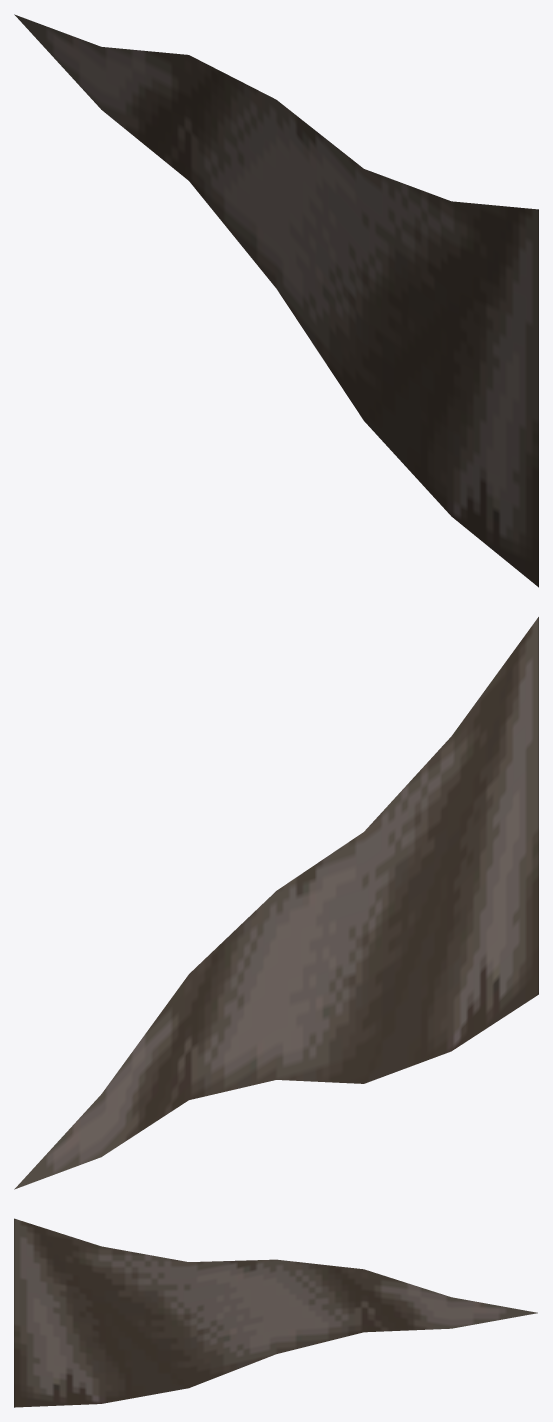
Rendered from EnvBdgMD_Sea_Lighthouse_Flag.FBX.
3 views of the same model, one above another, from view 1: azimuth 30°, elevation 25°; view 2: azimuth 150°, elevation 25°; view 3: azimuth 270°, elevation 25° (orthographic). The views are drawn at different scales.
Visible parts, largest first — view 1: EnvBdgMD_Sea_Lighthouse_Flag; view 2: EnvBdgMD_Sea_Lighthouse_Flag; view 3: EnvBdgMD_Sea_Lighthouse_Flag.
Part boxes in pixels (bbox=[...]): EnvBdgMD_Sea_Lighthouse_Flag: bbox=[14, 14, 538, 587]; EnvBdgMD_Sea_Lighthouse_Flag: bbox=[14, 617, 538, 1189]; EnvBdgMD_Sea_Lighthouse_Flag: bbox=[14, 1218, 537, 1407].
Bounding box in the file's own units: 4.44e-14 × 155 × 390.
Materials: 1 (1 with a texture image).
